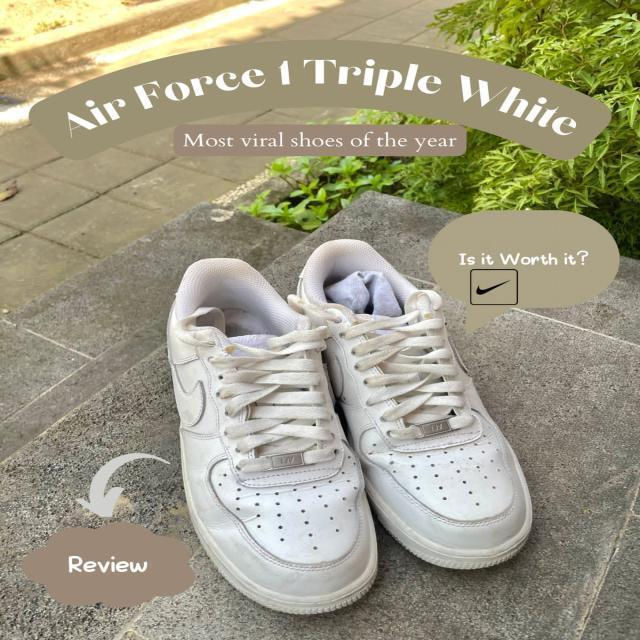nike original air force: (297, 240, 538, 574), (160, 256, 381, 620)
